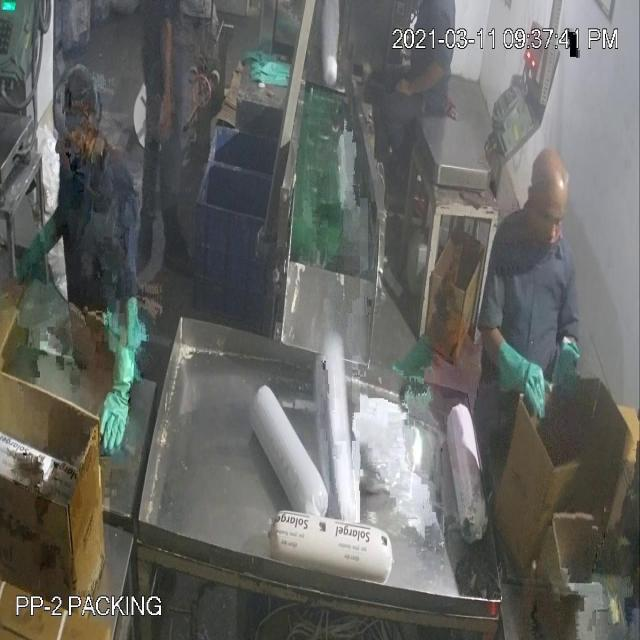No_Gloves: (26, 61, 425, 140)
